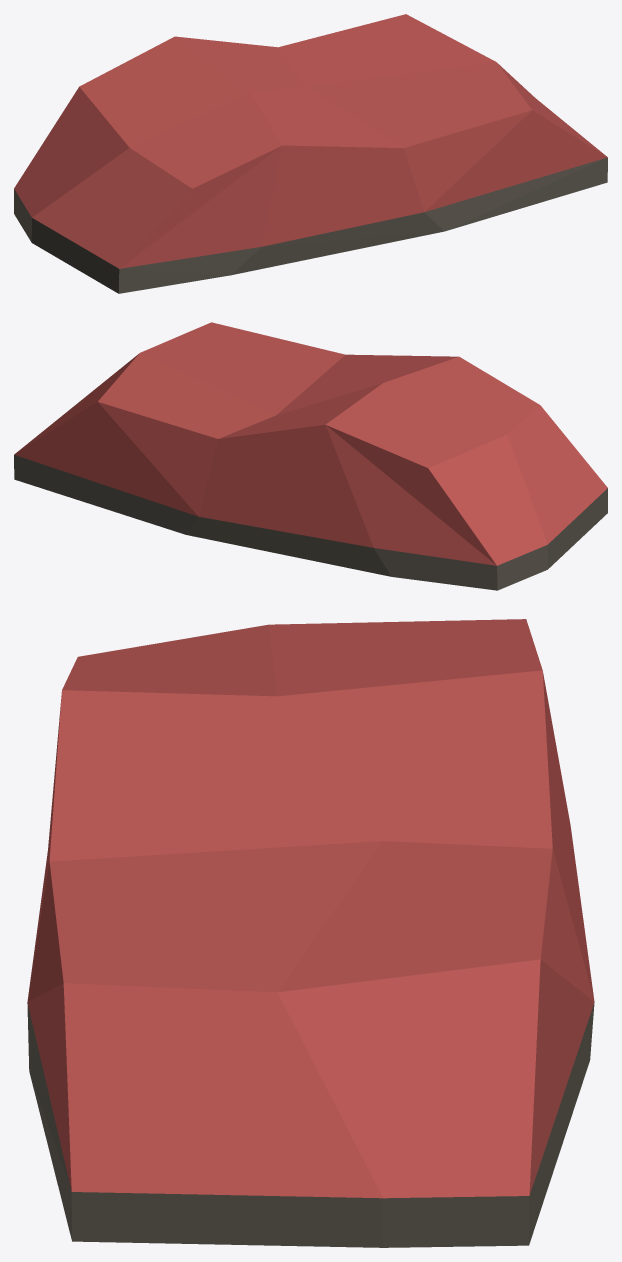
File: FishMeat01.fbx
The picture shows the model from 3 angles, top to bottom: view 1: azimuth 30°, elevation 25°; view 2: azimuth 150°, elevation 25°; view 3: azimuth 270°, elevation 25°; orthographic projection. The views are drawn at different scales.
Parts seen in each view (by area): view 1: FishMeat03; view 2: FishMeat03; view 3: FishMeat03.
Boxes of the visible parts, <box> form: FishMeat03: <box>14,14,607,293</box>; FishMeat03: <box>14,322,607,590</box>; FishMeat03: <box>27,619,594,1247</box>.
Bounding box in the file's own units: 38.99 × 10.02 × 19.19.
